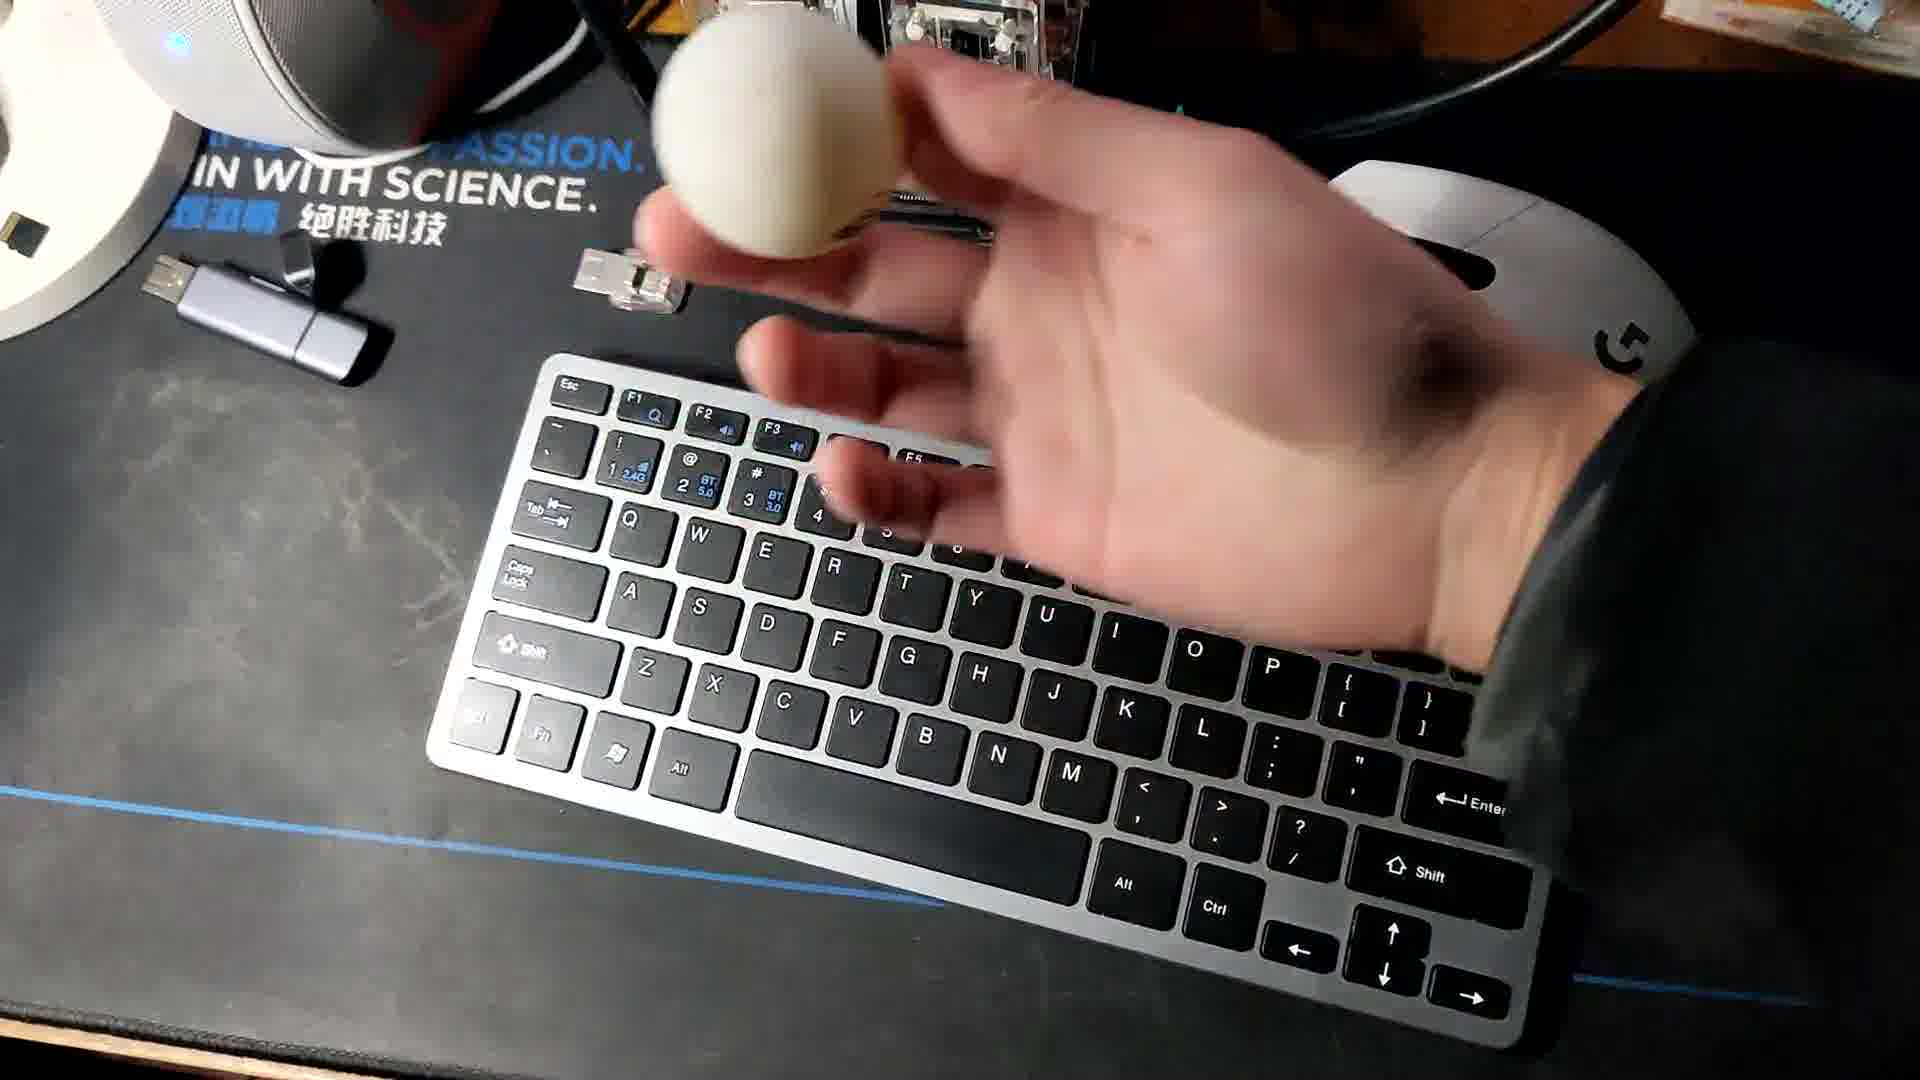Ball: (649, 8, 897, 262)
